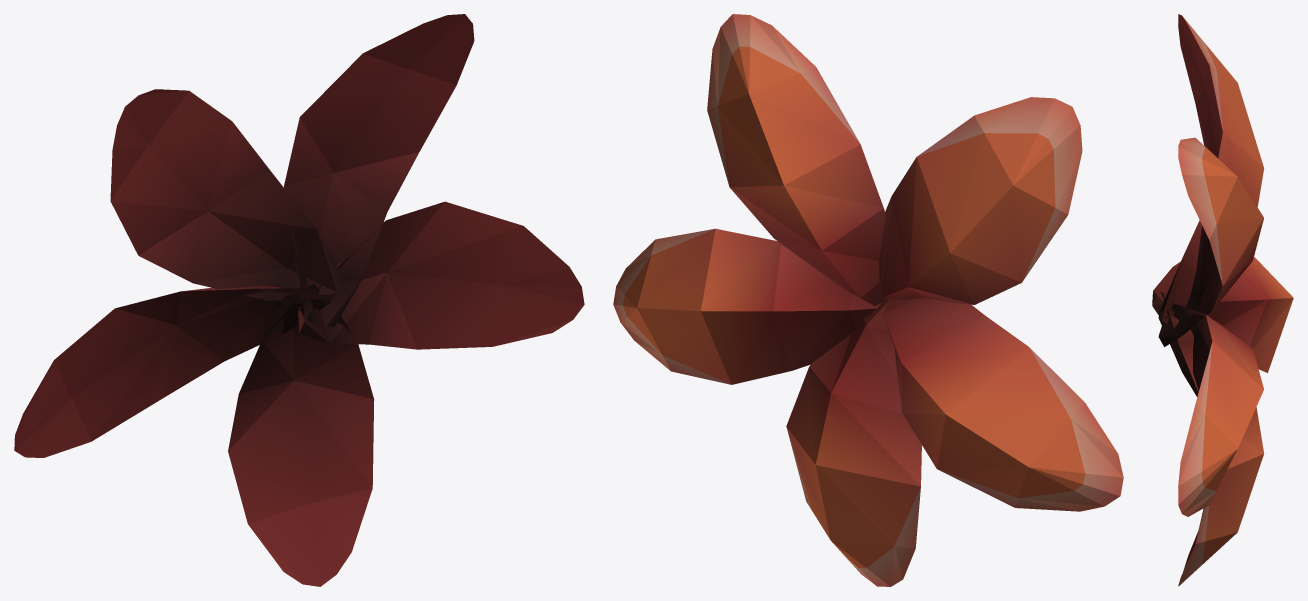
Rendered from FlowerOrange.fbx.
The picture shows the model from 3 angles, left to right: view 1: azimuth 30°, elevation 25°; view 2: azimuth 150°, elevation 25°; view 3: azimuth 270°, elevation 25°; orthographic projection. The views are drawn at different scales.
Parts seen in each view (by area): view 1: FlowerOrange; view 2: FlowerOrange; view 3: FlowerOrange.
Boxes of the visible parts, left/top/right/bottom form: FlowerOrange: left=14, top=14, right=584, bottom=586; FlowerOrange: left=613, top=14, right=1123, bottom=586; FlowerOrange: left=1152, top=14, right=1293, bottom=586.
Size of the model in its own units: 59 by 56.44 by 14.58.
